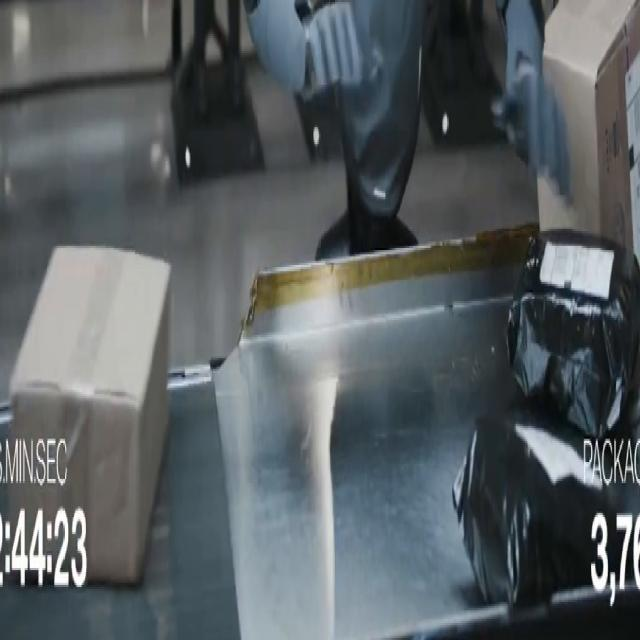package: (3, 246, 170, 584), (453, 407, 639, 606), (507, 231, 639, 438), (538, 0, 639, 254)
